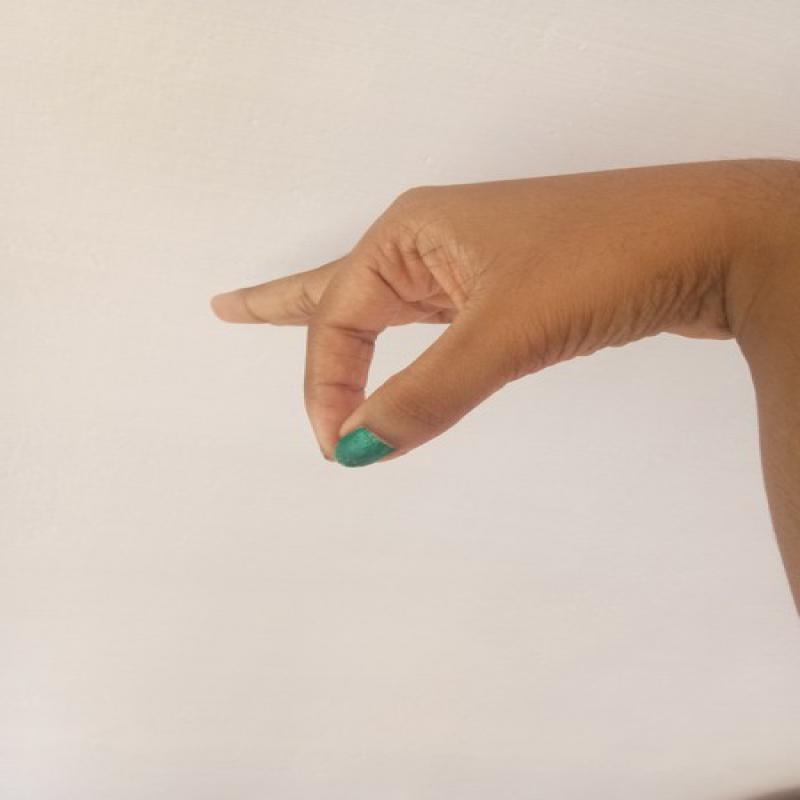Mudraakhyam: (200, 141, 757, 484)
